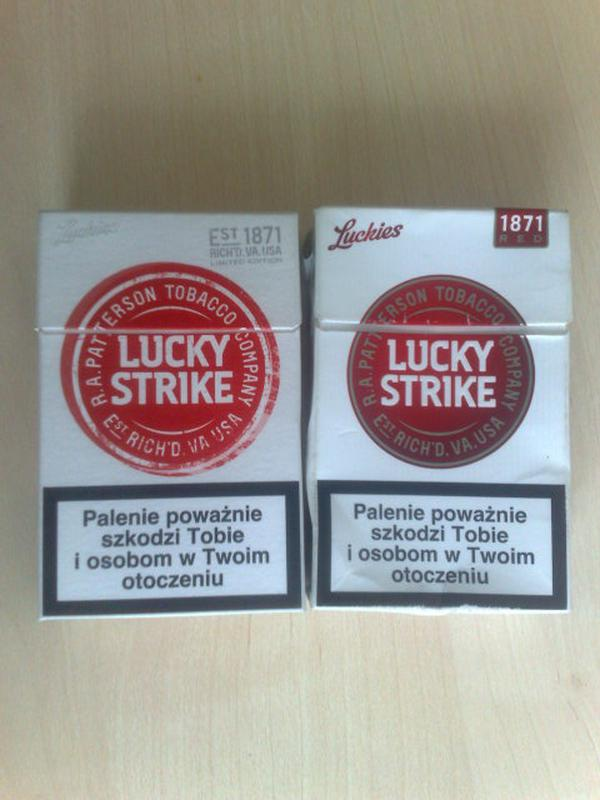lucky_strike_red: (41, 214, 301, 607), (317, 211, 565, 605)
